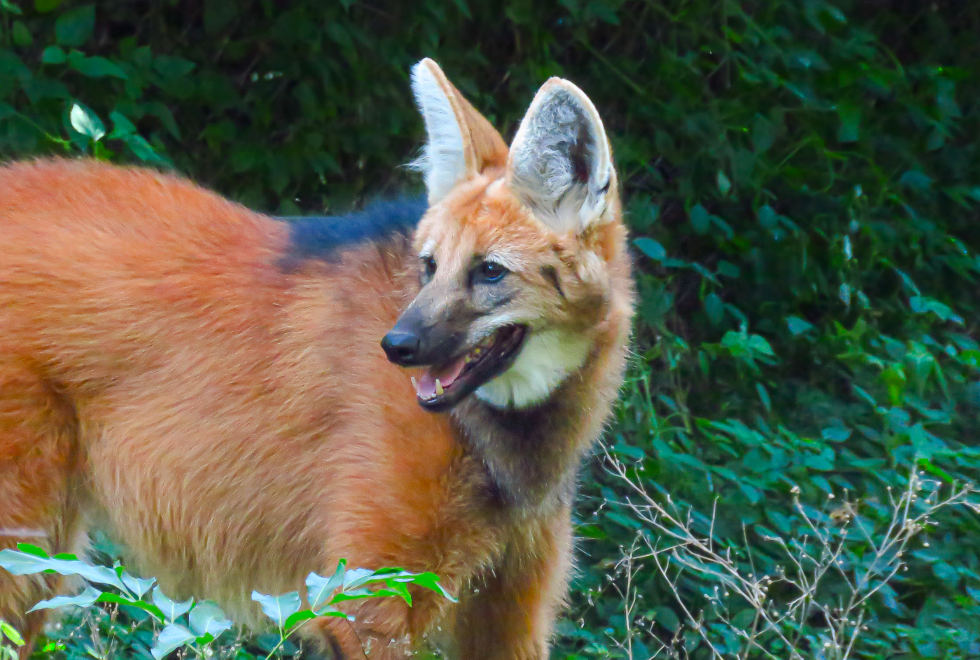LoboGuara: (11, 52, 641, 642)
